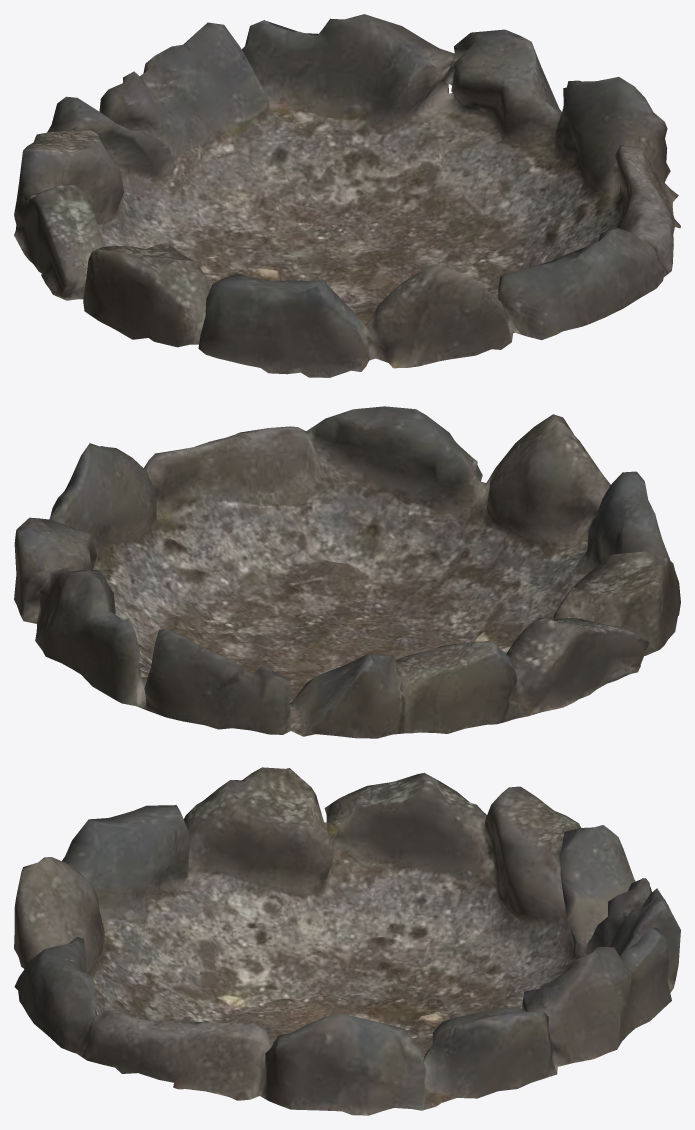
File: stone_fire_pit.glb
The picture shows the model from 3 angles, top to bottom: view 1: azimuth 30°, elevation 25°; view 2: azimuth 150°, elevation 25°; view 3: azimuth 270°, elevation 25°; orthographic projection.
Visible parts, largest first — view 1: stone_fire_pit; view 2: stone_fire_pit; view 3: stone_fire_pit.
Boxes of the visible parts, x1=… form: stone_fire_pit: x1=14, y1=14, x2=680, y2=377; stone_fire_pit: x1=14, y1=406, x2=680, y2=738; stone_fire_pit: x1=14, y1=767, x2=680, y2=1115.
Bounding box in the file's own units: 1.45 × 0.3883 × 1.43.
Materials: 1 (1 with a texture image).
